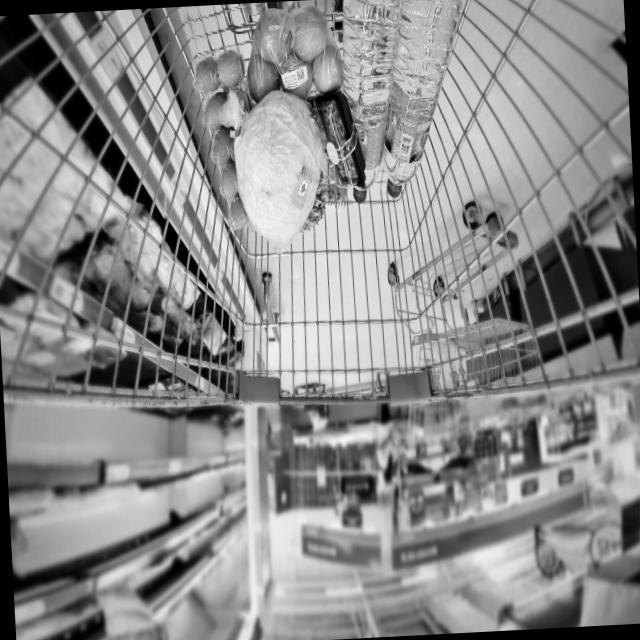apple: (240, 3, 353, 110)
bap cai: (232, 88, 330, 241)
egg: (198, 42, 255, 235)
